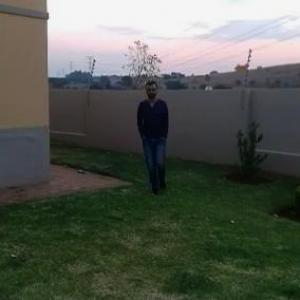follow: (132, 78, 171, 191)
